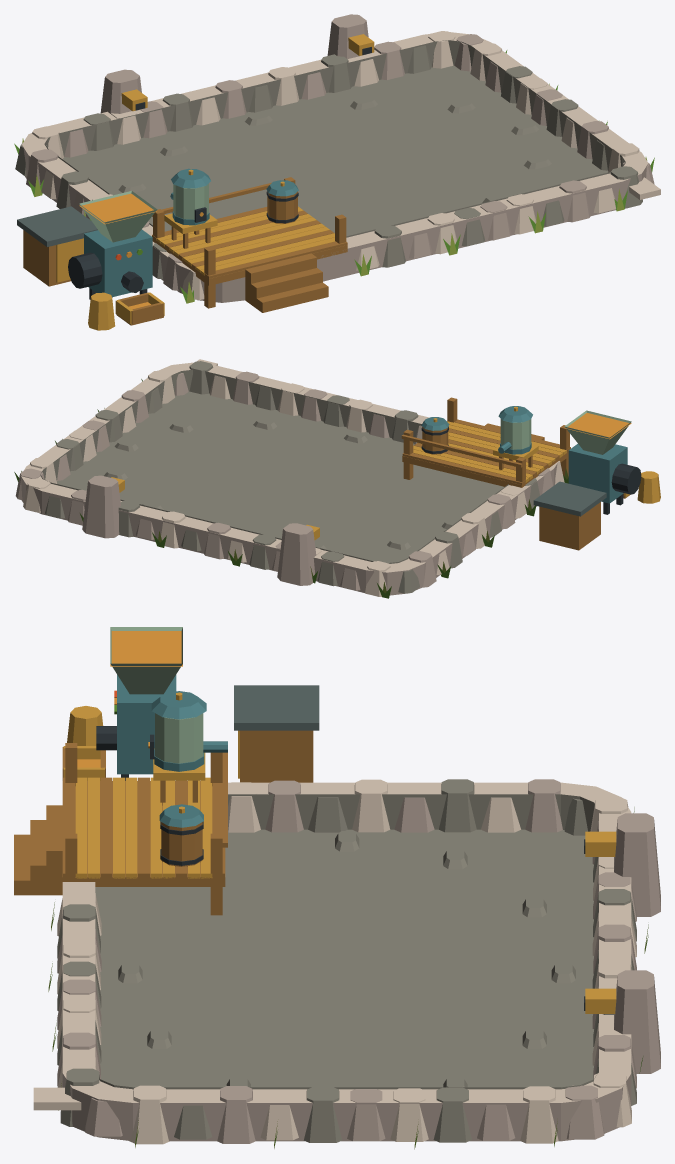
File: FishPond_A_Lv3_Medium.fbx
3 views of the same model, one above another, from view 1: azimuth 30°, elevation 25°; view 2: azimuth 150°, elevation 25°; view 3: azimuth 270°, elevation 25° (orthographic). The views are drawn at different scales.
Parts seen in each view (by area): view 1: FishPond_A_Lv3_Medium; view 2: FishPond_A_Lv3_Medium; view 3: FishPond_A_Lv3_Medium.
Boxes of the visible parts, x1,y1,x2,y2 form: FishPond_A_Lv3_Medium: (14, 14, 660, 330); FishPond_A_Lv3_Medium: (14, 359, 660, 598); FishPond_A_Lv3_Medium: (14, 627, 660, 1149).
Size of the model in its own units: 17.74 by 2.99 by 11.95.
